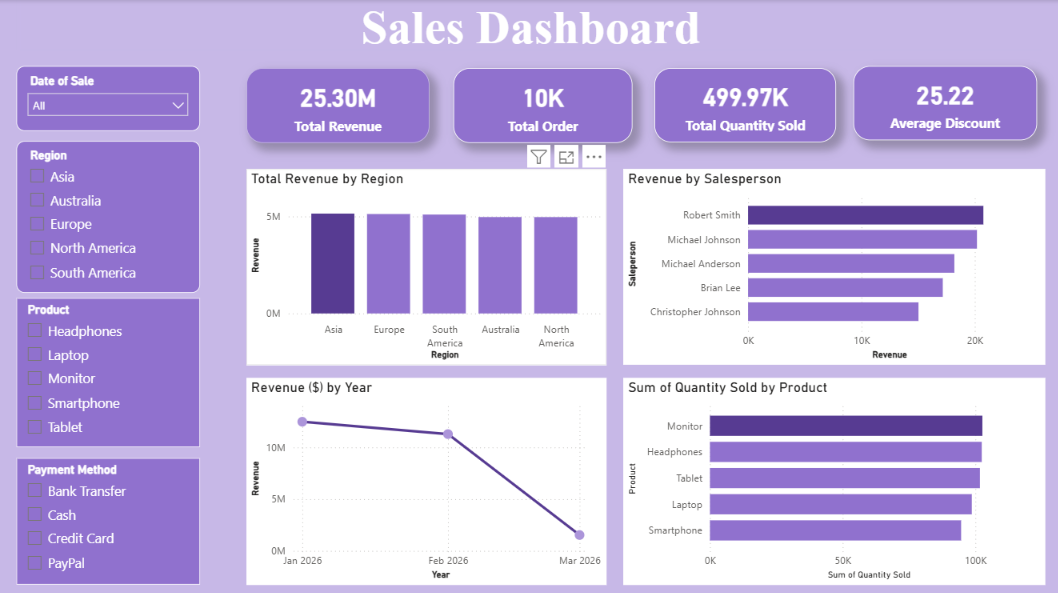

Layout of this report page (visuals, bound fields, positions):
{"tool":"powerbi","page":{"name":"Page 1","canvas":[1280,720],"ordinal":0},"visuals":[{"type":"card","fields":{"Values":["Data.Total Revenue"]},"box":[299.2,82,220.8,90.5],"z":0},{"type":"card","fields":{"Values":["Data.Total Order"]},"box":[548.9,82,216,90.5],"z":1000},{"type":"card","fields":{"Values":["Data.Total Quantity Sold"]},"box":[791.4,82,219.6,89.3],"z":2000},{"type":"card","fields":{"Values":["Data.Average Discount"]},"box":[1031.5,79.6,222,89.3],"z":3000},{"type":"columnChart","fields":{"Category":["Data.Region"],"Y":["Data.Total Revenue"]},"box":[299.2,203.9,434.3,236.5],"z":4000},{"type":"lineChart","title":"Revenue ($) by Year ","fields":{"Y":["Sum(Data.Revenue ($))"],"Category":["Data.Date of Sale.Variation.Date Hierarchy.Year","Data.Date of Sale.Variation.Date Hierarchy.Month"]},"box":[299.2,456,434.3,249.7],"z":5000},{"type":"barChart","fields":{"Category":["Data.Product"],"Y":["Sum(Data.Quantity Sold)"]},"box":[754,456,509.1,249.7],"z":6000},{"type":"barChart","title":"Revenue by Salesperson","fields":{"Category":["Data.Salesperson"],"Y":["Data.Total Revenue"]},"box":[754.5,204.2,508.7,236],"z":7000},{"type":"slicer","title":" ","fields":{"Values":["Data.Date of Sale","Data.Date of Sale.Variation.Date Hierarchy.Year"]},"box":[22,79.5,221.3,78.3],"z":8000},{"type":"slicer","fields":{"Values":["Data.Region"]},"box":[22,170,221.3,183.4],"z":9000},{"type":"slicer","fields":{"Values":["Data.Product"]},"box":[22,359.5,221.3,179.8],"z":10000},{"type":"slicer","fields":{"Values":["Data.Payment Method"]},"box":[22,552.7,221.3,152.9],"z":11000},{"type":"textbox","title":"Sales Dashboard","box":[21.7,0,1241.4,60.3],"z":12000}]}

Visuals, with their boxes in screenshot pixels (x1, y1, x2, y2), scaled from the page's 1280x720 canvas onto the 1058x593 screenshot:
card - Data.Total Revenue: x1=247 y1=68 x2=430 y2=142
card - Data.Total Order: x1=454 y1=68 x2=632 y2=142
card - Data.Total Quantity Sold: x1=654 y1=68 x2=836 y2=141
card - Data.Average Discount: x1=853 y1=66 x2=1036 y2=139
columnChart - Data.Region x Data.Total Revenue: x1=247 y1=168 x2=606 y2=363
"Revenue ($) by Year " lineChart: x1=247 y1=376 x2=606 y2=581
barChart - Data.Product x Sum(Data.Quantity Sold): x1=623 y1=376 x2=1044 y2=581
"Revenue by Salesperson" barChart: x1=624 y1=168 x2=1044 y2=363
" " slicer: x1=18 y1=65 x2=201 y2=130
slicer - Data.Region: x1=18 y1=140 x2=201 y2=291
slicer - Data.Product: x1=18 y1=296 x2=201 y2=444
slicer - Data.Payment Method: x1=18 y1=455 x2=201 y2=581
"Sales Dashboard" textbox: x1=18 y1=0 x2=1044 y2=50
